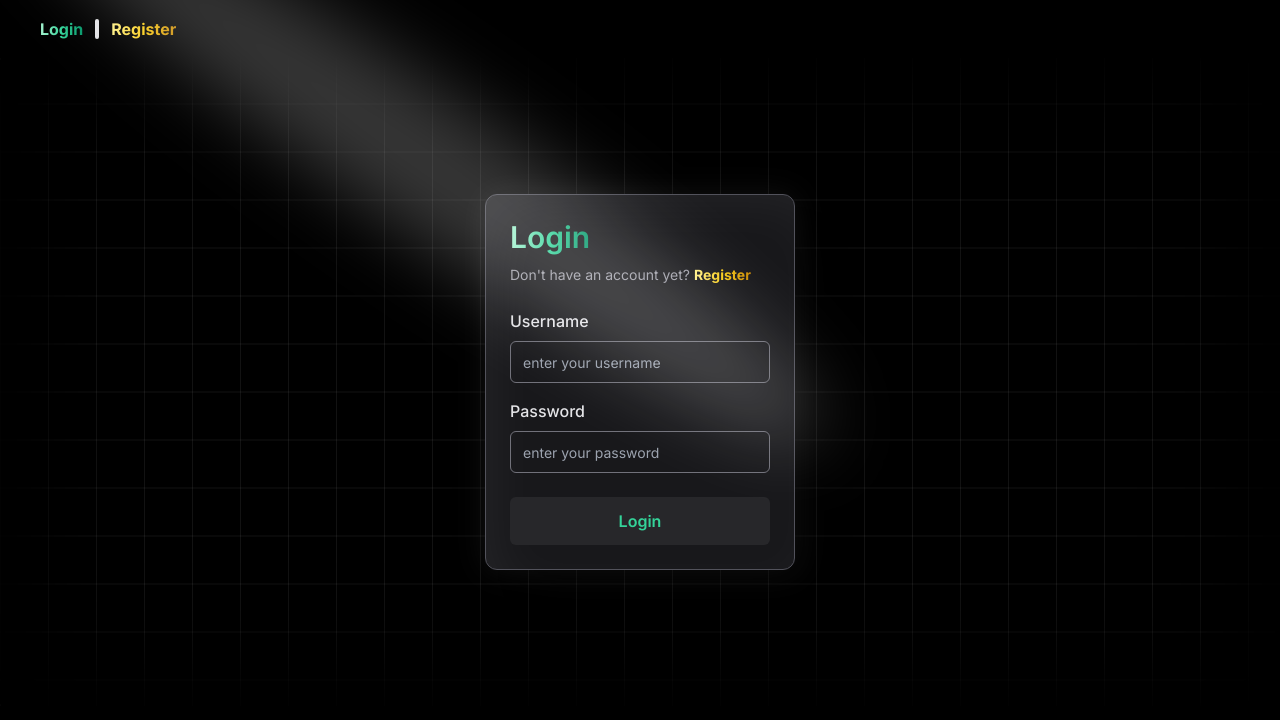
Test: Login Test in UI › Enter wrong information
Type "0000000" into the field named "username" at [640, 362], box 510,341 -> 770,383
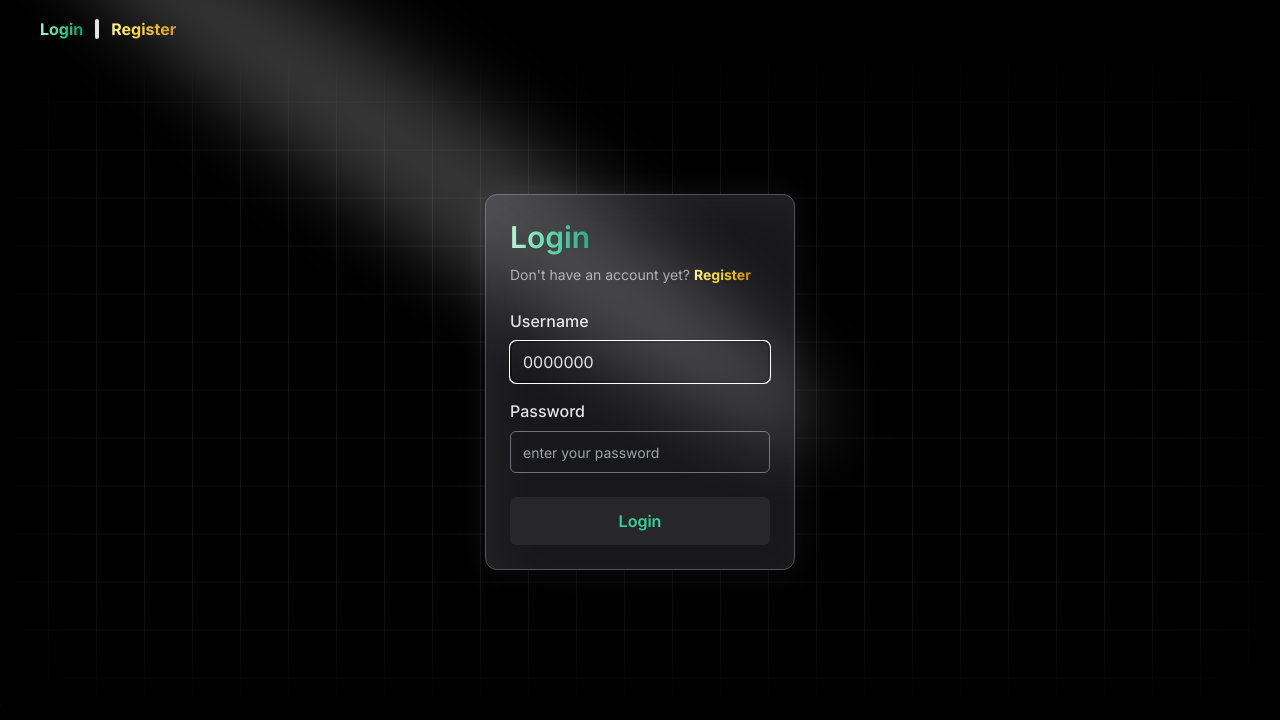
Type "00000000000" into the password field named "password" at [640, 452], box 510,431 -> 770,473
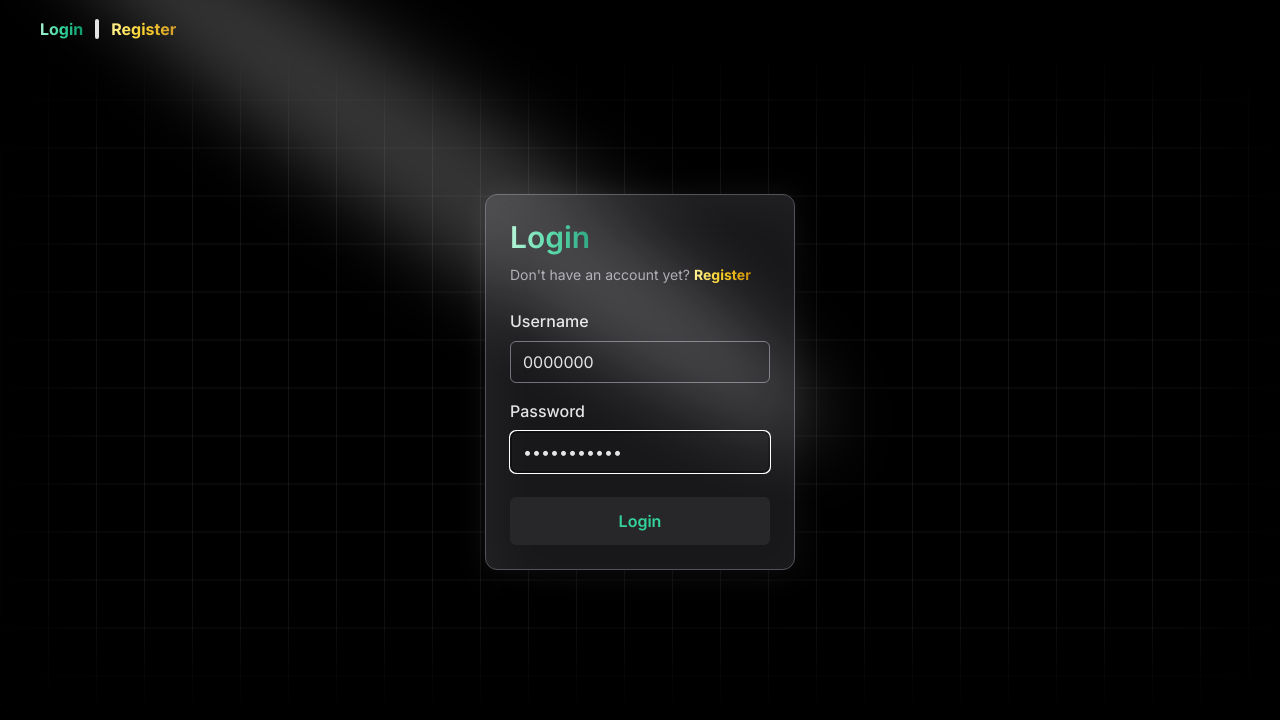
Click the button with test id "login-btn" at [640, 521], box 510,497 -> 770,545
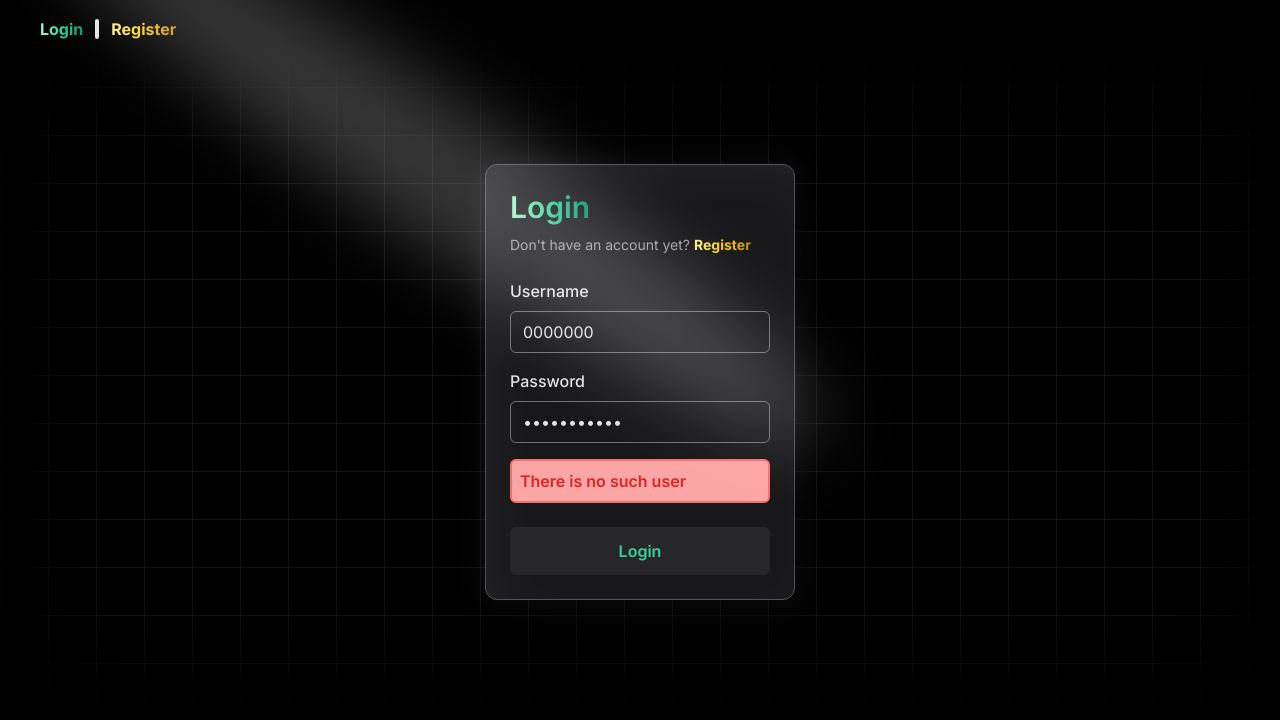
Expected: the text "There is no such user" is shown, 510,459 -> 770,503
